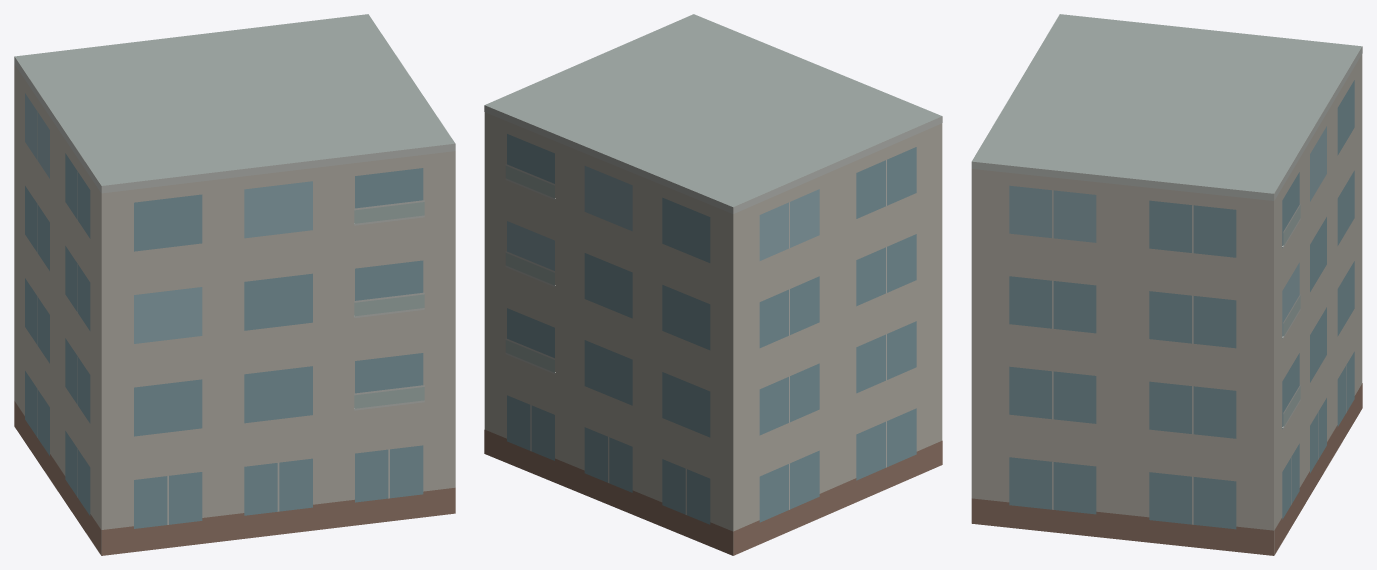
File: residential-c5f9cf92-c4fb-4084-94c6-d64dac438c9f.glb
The picture shows the model from 3 angles, left to right: view 1: azimuth 30°, elevation 25°; view 2: azimuth 150°, elevation 25°; view 3: azimuth 270°, elevation 25°; orthographic projection. The views are drawn at different scales.
Parts seen in each view (by area): view 1: residential-c5f9cf92-c4fb-4084-94c6-d64dac438c9f.tmp; view 2: residential-c5f9cf92-c4fb-4084-94c6-d64dac438c9f.tmp; view 3: residential-c5f9cf92-c4fb-4084-94c6-d64dac438c9f.tmp.
Boxes of the visible parts, box(x1,y1,x2,y2) form: residential-c5f9cf92-c4fb-4084-94c6-d64dac438c9f.tmp: box(14, 14, 455, 555); residential-c5f9cf92-c4fb-4084-94c6-d64dac438c9f.tmp: box(484, 14, 942, 555); residential-c5f9cf92-c4fb-4084-94c6-d64dac438c9f.tmp: box(971, 14, 1362, 555).
Bounding box in the file's own units: 13 × 12.2 × 11.95.
